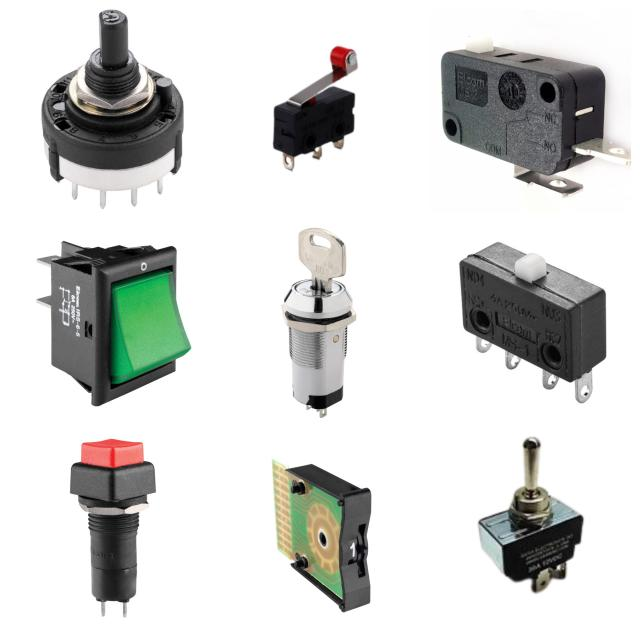Push button: (30, 2, 212, 212), (40, 418, 180, 613)
switch: (426, 16, 632, 189), (436, 228, 612, 417), (33, 231, 204, 407), (239, 5, 380, 198), (458, 426, 606, 596), (255, 434, 393, 615), (260, 226, 386, 422)
